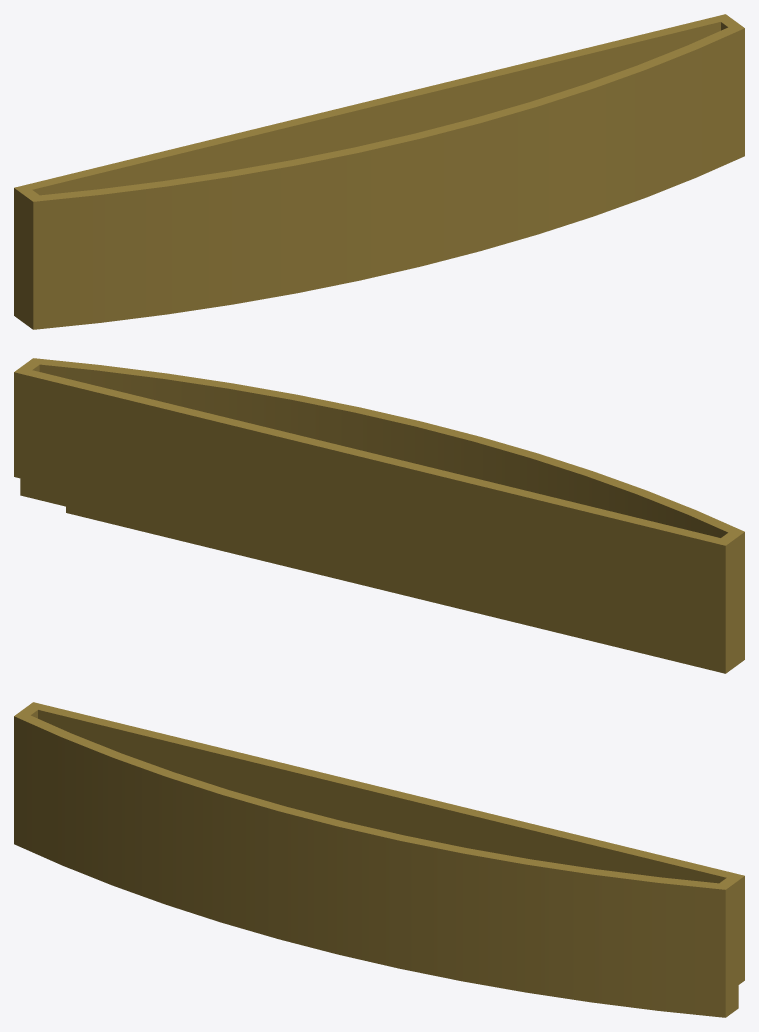
File: original-58.obj
3 renders of one model, top to bottom at view 1: azimuth 30°, elevation 25°; view 2: azimuth 150°, elevation 25°; view 3: azimuth 330°, elevation 25°, orthographic.
Visible parts, largest first — view 1: Group5/mesh183/mesh183-geometry#mesh183-geometry; view 2: Group5/mesh183/mesh183-geometry#mesh183-geometry; view 3: Group5/mesh183/mesh183-geometry#mesh183-geometry.
Part boxes in pixels (x1=…): Group5/mesh183/mesh183-geometry#mesh183-geometry: x1=14, y1=14, x2=744, y2=329; Group5/mesh183/mesh183-geometry#mesh183-geometry: x1=14, y1=358, x2=744, y2=673; Group5/mesh183/mesh183-geometry#mesh183-geometry: x1=14, y1=702, x2=744, y2=1017.
Size of the model in its own units: 0.5813 by 0.0999 by 0.0727.
